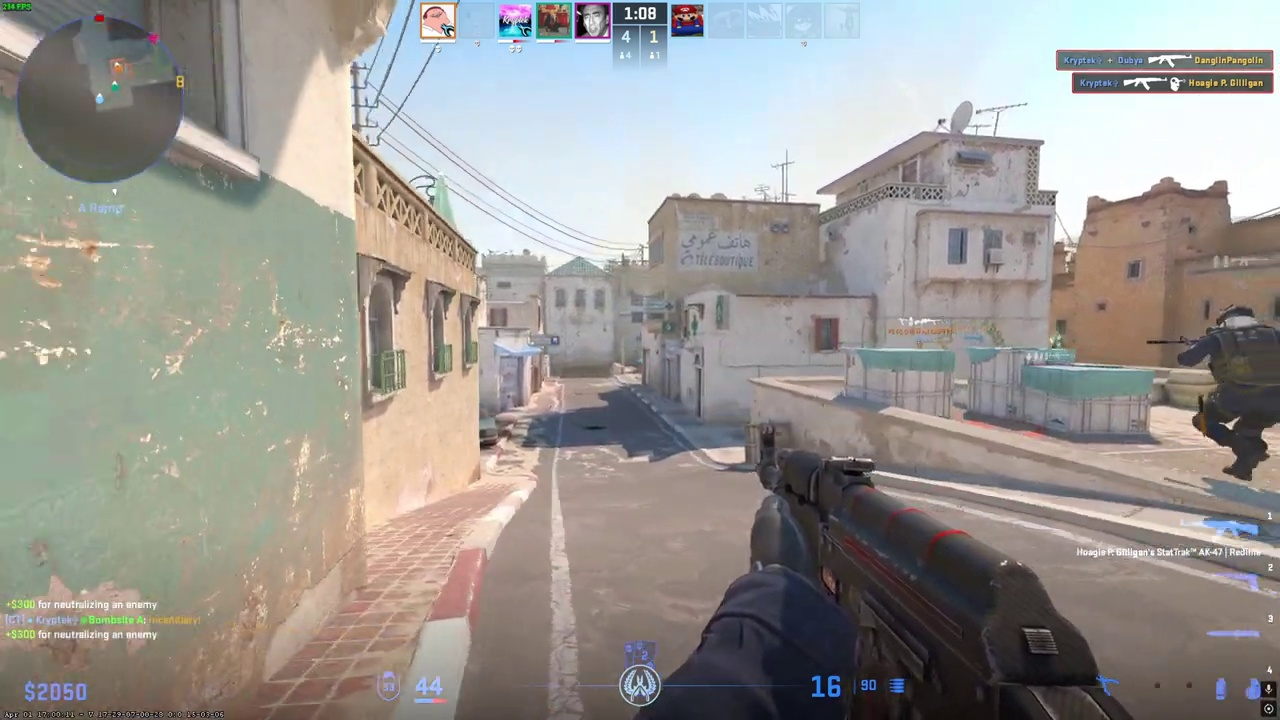CT: (1189, 303, 1280, 481)
